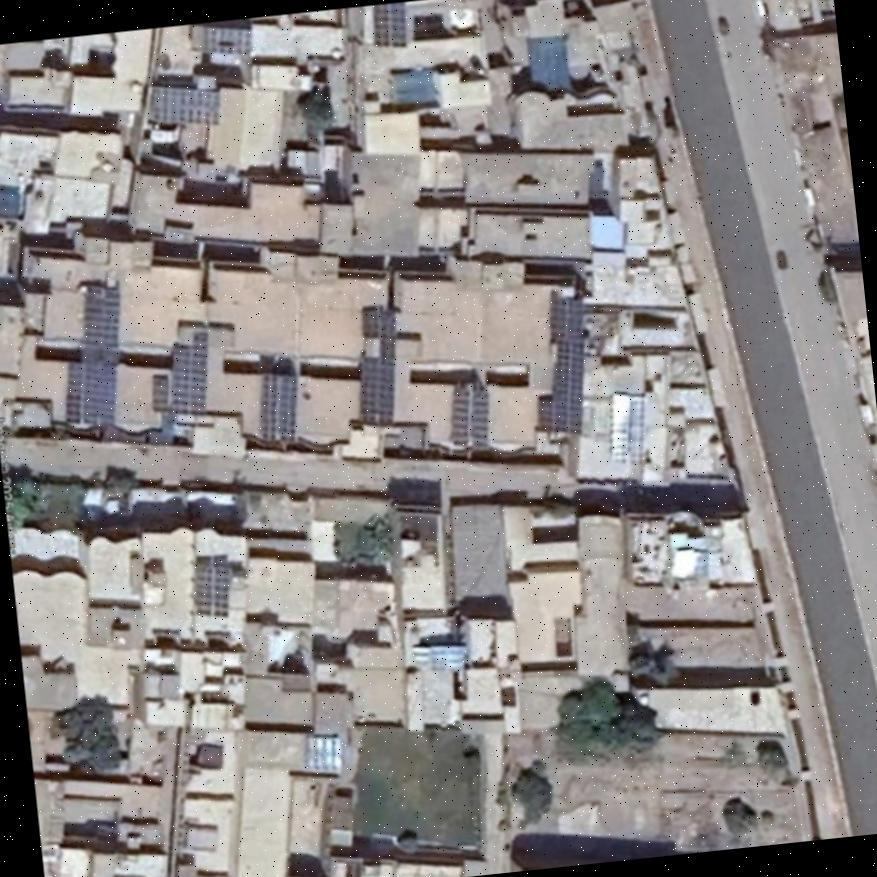Solarpanel: (65, 283, 119, 427), (541, 296, 584, 430), (360, 307, 395, 424), (170, 327, 205, 415), (152, 85, 219, 127), (257, 374, 297, 439), (452, 393, 490, 446), (196, 562, 230, 617), (373, 1, 406, 45), (200, 27, 253, 52), (307, 733, 340, 771)
